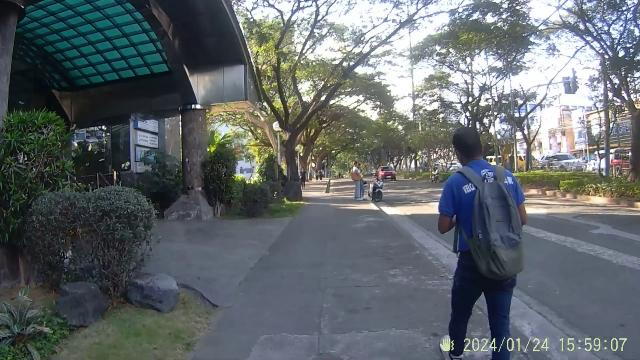tree: (283, 96, 309, 200)
